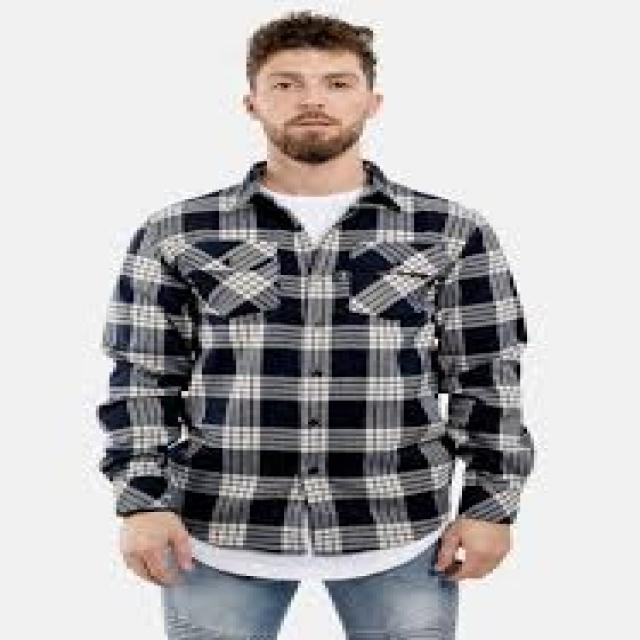plaid: (100, 159, 538, 559)
